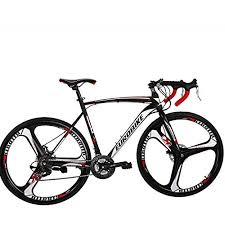bicycle: (2, 69, 224, 208)
